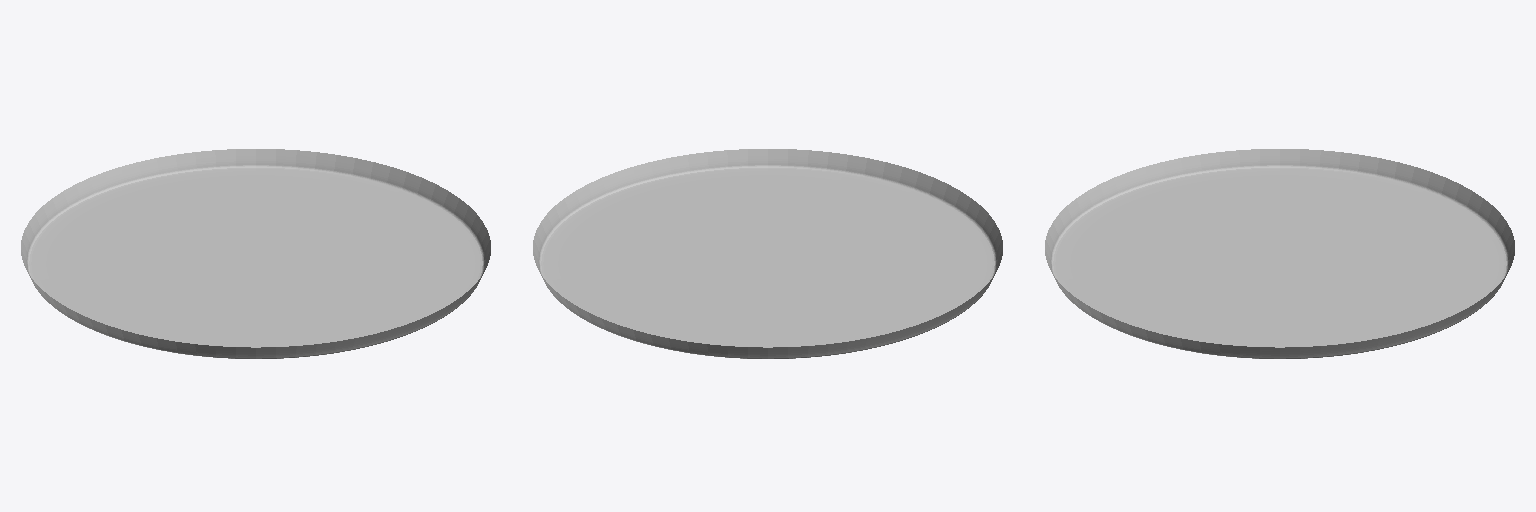
Rendered from Foco02.obj.
3 renders of one model, left to right at view 1: azimuth 30°, elevation 25°; view 2: azimuth 150°, elevation 25°; view 3: azimuth 270°, elevation 25°, orthographic.
Parts seen in each view (by area): view 1: Foco:Cylinder001; view 2: Foco:Cylinder001; view 3: Foco:Cylinder001.
Boxes of the visible parts, <box> form: Foco:Cylinder001: <box>21,149,490,358</box>; Foco:Cylinder001: <box>533,149,1002,358</box>; Foco:Cylinder001: <box>1045,149,1514,358</box>.
Size of the model in its own units: 1.79 by 0.066 by 1.79.